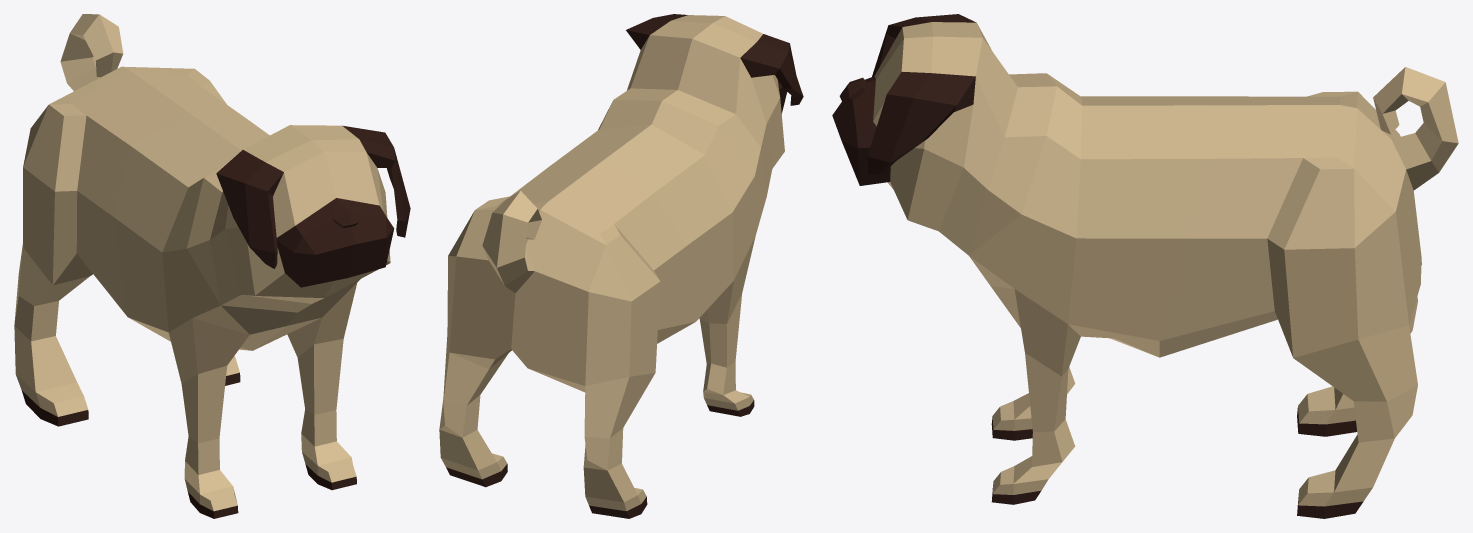
File: Pug.glb
3 renders of one model, left to right at view 1: azimuth 30°, elevation 25°; view 2: azimuth 150°, elevation 25°; view 3: azimuth 270°, elevation 25°, orthographic. The views are drawn at different scales.
Parts seen in each view (by area): view 1: Pug_Cylinder; view 2: Pug_Cylinder; view 3: Pug_Cylinder.
Part boxes in pixels (box(x1,y1,x2,y2)): Pug_Cylinder: box(14, 14, 410, 518); Pug_Cylinder: box(439, 14, 803, 518); Pug_Cylinder: box(832, 14, 1458, 518).
Size of the model in its own units: 1.45 by 2.65 by 3.5.
